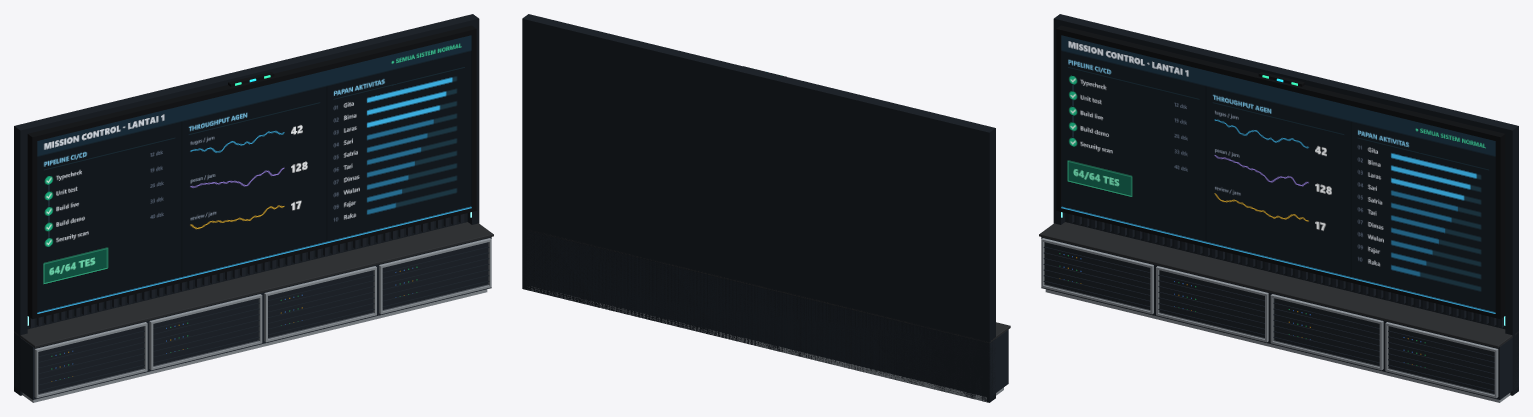
Rendered from Office_InfoWall_Command_Display.glb.
3 renders of one model, left to right at view 1: azimuth 30°, elevation 25°; view 2: azimuth 150°, elevation 25°; view 3: azimuth 330°, elevation 25°, orthographic.
Visible parts, largest first — view 1: InfoWall_Main_Screen, Credenza_Body, Rack_Door_Smoked_Glass, Basalt_Ledge, Bezel_Frame, Perimeter_Frame, Rack_Door_Louvers, Rack_Door_Frames, Gunmetal_Backing_Panel, Acoustic_Slats, ToeKick_Aluminium; view 2: Gunmetal_Backing_Panel, Credenza_Body, Perimeter_Frame, ToeKick_Aluminium, Basalt_Ledge; view 3: InfoWall_Main_Screen, Credenza_Body, Rack_Door_Smoked_Glass, Basalt_Ledge, Bezel_Frame, Perimeter_Frame, Rack_Door_Louvers, Rack_Door_Frames, Gunmetal_Backing_Panel, Acoustic_Slats, ToeKick_Aluminium.
Boxes of the visible parts, x1,y1,x2,y2 form: InfoWall_Main_Screen: (37,35,471,313); Credenza_Body: (14,237,491,399); Rack_Door_Smoked_Glass: (38,242,488,394); Basalt_Ledge: (14,222,493,348); Bezel_Frame: (27,25,476,319); Perimeter_Frame: (14,15,479,395); Rack_Door_Louvers: (38,246,489,391); Rack_Door_Frames: (34,238,491,398); Gunmetal_Backing_Panel: (14,14,474,392); Acoustic_Slats: (29,214,464,327); ToeKick_Aluminium: (22,289,487,402); Gunmetal_Backing_Panel: (522,17,991,402); Credenza_Body: (522,230,1008,395); Perimeter_Frame: (522,14,995,402); ToeKick_Aluminium: (529,286,1003,402); Basalt_Ledge: (530,230,1010,343); InfoWall_Main_Screen: (1061,35,1495,313); Credenza_Body: (1041,237,1518,399); Rack_Door_Smoked_Glass: (1044,242,1494,394); Basalt_Ledge: (1039,222,1518,348); Bezel_Frame: (1056,25,1505,319); Perimeter_Frame: (1053,15,1518,395); Rack_Door_Louvers: (1043,246,1494,391); Rack_Door_Frames: (1041,238,1498,398); Gunmetal_Backing_Panel: (1058,14,1518,392); Acoustic_Slats: (1068,214,1503,327); ToeKick_Aluminium: (1045,289,1510,402).
Bounding box in the file's own units: 3.8 × 2.1 × 0.3.
Materials: 15 (1 with a texture image).
